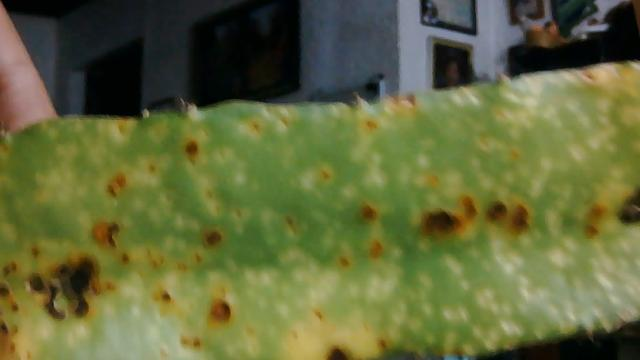stemcanker: (1, 77, 634, 360)
